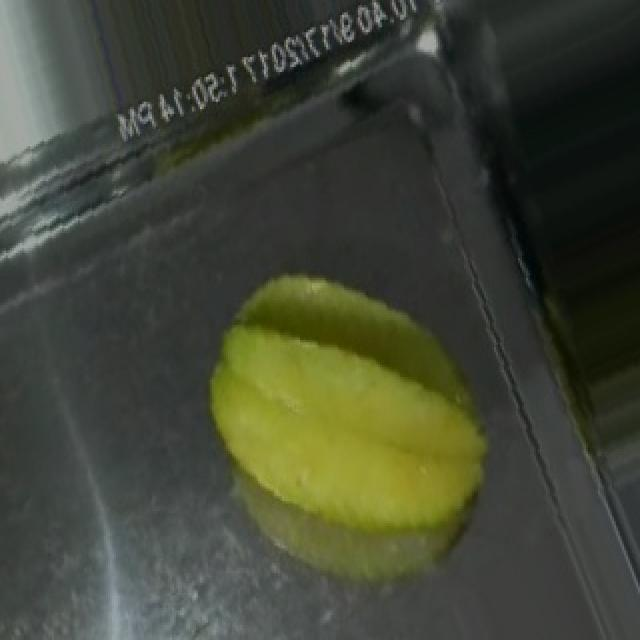fruit: (168, 226, 540, 615)
